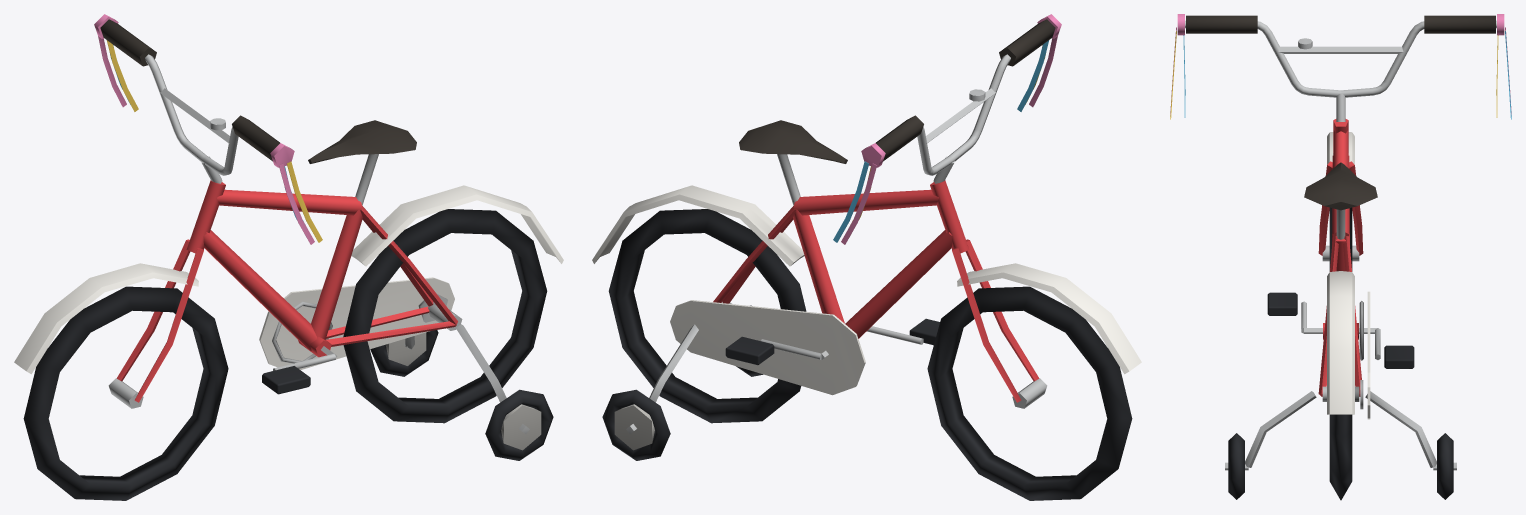
Rendered from bicycleChild.far.glb.
The picture shows the model from 3 angles, left to right: view 1: azimuth 30°, elevation 25°; view 2: azimuth 150°, elevation 25°; view 3: azimuth 270°, elevation 25°; orthographic projection. The views are drawn at different scales.
Visible parts, largest first — view 1: bicycleChild; view 2: bicycleChild; view 3: bicycleChild.
Part boxes in pixels (bbox=[...]): bicycleChild: bbox=[14, 14, 563, 500]; bicycleChild: bbox=[592, 14, 1141, 500]; bicycleChild: bbox=[1170, 14, 1511, 500].
Bounding box in the file's own units: 0.9475 × 0.679 × 0.5735.
